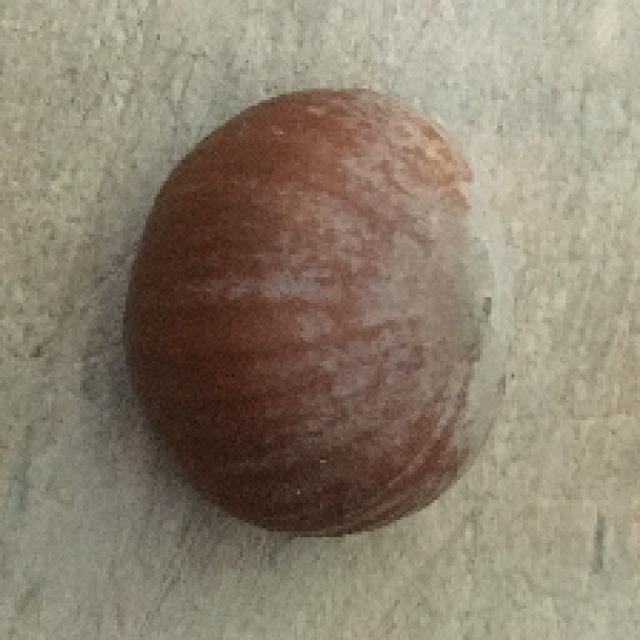qualityHazelnut: (118, 88, 519, 536)
